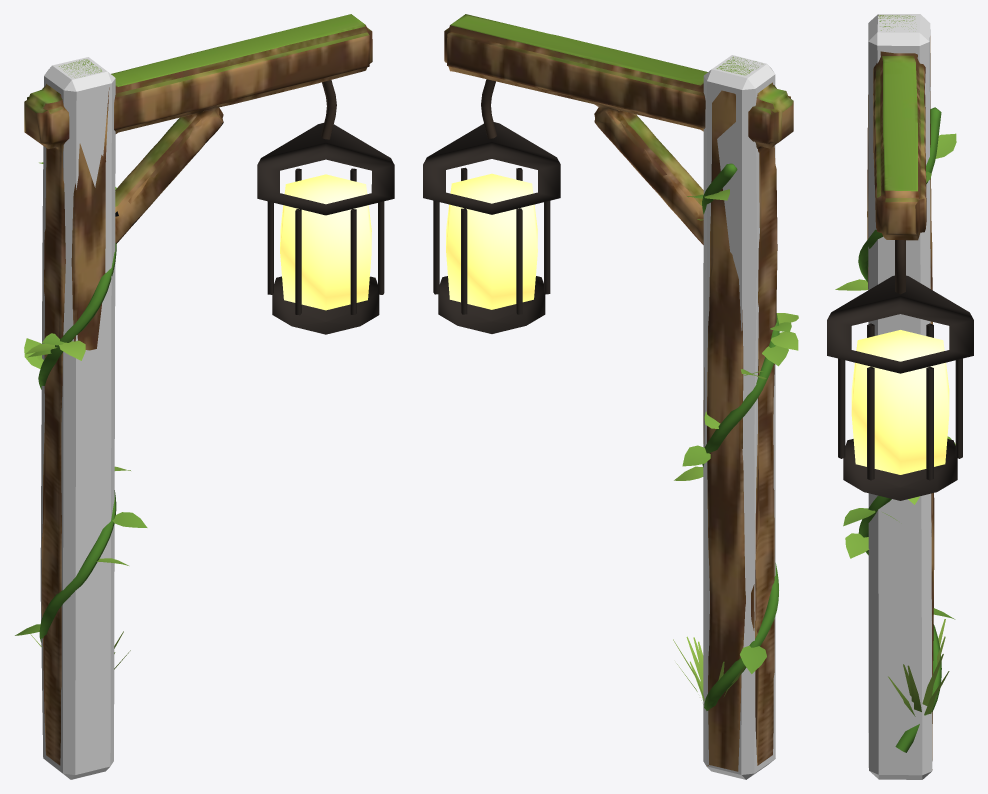
File: lantern_post.glb
3 renders of one model, left to right at view 1: azimuth 30°, elevation 25°; view 2: azimuth 150°, elevation 25°; view 3: azimuth 270°, elevation 25°, orthographic. The views are drawn at different scales.
Parts seen in each view (by area): view 1: SM_PostWood, COL_post, Lantern_Glass, Lantern_Roof, Vine, Lantern_Base, Lantern_Bar3, Lantern_Bar4, Lantern_Bar2, Lantern_Bar5; view 2: SM_PostWood, COL_post, Lantern_Glass, Lantern_Roof, Vine, Lantern_Base, Lantern_Bar2, Lantern_Bar1, Tuft, Lantern_Bar0, Lantern_Bar3; view 3: COL_post, SM_PostWood, Lantern_Glass, Lantern_Roof, Lantern_Base, Vine, Tuft, Lantern_Bar0, Lantern_Bar5, Lantern_Bar1, Lantern_Bar4, Lantern_Rope (+3 smaller).
Boxes of the visible parts, <box> form: SM_PostWood: <box>24,14,372,765</box>; COL_post: <box>40,57,115,779</box>; Lantern_Glass: <box>280,174,371,310</box>; Lantern_Roof: <box>257,123,394,215</box>; Vine: <box>38,243,116,642</box>; Lantern_Base: <box>272,276,379,334</box>; Lantern_Bar3: <box>295,209,301,315</box>; Lantern_Bar4: <box>350,209,356,314</box>; Lantern_Bar2: <box>267,201,273,294</box>; Lantern_Bar5: <box>378,201,384,294</box>; SM_PostWood: <box>444,14,793,771</box>; COL_post: <box>703,55,775,779</box>; Lantern_Glass: <box>446,173,537,309</box>; Lantern_Roof: <box>423,122,560,214</box>; Vine: <box>702,163,779,710</box>; Lantern_Base: <box>438,276,545,333</box>; Lantern_Bar2: <box>516,208,522,314</box>; Lantern_Bar1: <box>461,208,467,314</box>; Tuft: <box>673,636,745,701</box>; Lantern_Bar0: <box>433,200,439,294</box>; Lantern_Bar3: <box>544,201,550,294</box>; COL_post: <box>868,14,932,779</box>; SM_PostWood: <box>867,15,934,769</box>; Lantern_Glass: <box>851,330,949,474</box>; Lantern_Roof: <box>827,275,973,373</box>; Lantern_Base: <box>843,439,957,500</box>; Vine: <box>858,107,941,752</box>; Tuft: <box>888,619,949,716</box>; Lantern_Bar0: <box>926,366,933,480</box>; Lantern_Bar5: <box>867,366,874,480</box>; Lantern_Bar1: <box>955,358,962,458</box>; Lantern_Bar4: <box>838,358,845,458</box>; Lantern_Rope: <box>895,240,905,294</box>.
Bounding box in the file's own units: 1.17 × 2.1 × 0.374.
4 materials, 1 textured.
